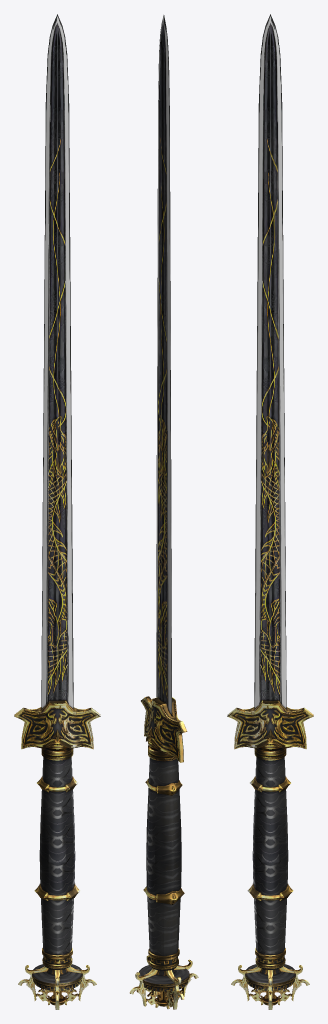
File: dabaojian.fbx
3 renders of one model, left to right at view 1: azimuth 90°, elevation 25°; view 2: azimuth 210°, elevation 25°; view 3: azimuth 270°, elevation 25°, orthographic.
Visible parts, largest first — view 1: dabaojian; view 2: dabaojian; view 3: dabaojian.
Boxes of the visible parts, left/top/right/bottom form: dabaojian: left=14, top=14, right=100, bottom=1009; dabaojian: left=129, top=15, right=198, bottom=1009; dabaojian: left=227, top=14, right=313, bottom=1009.
Size of the model in its own units: 0.0844 by 1.17 by 0.0929.
